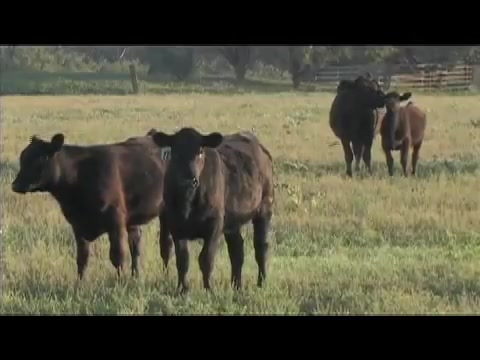cow: (13, 129, 172, 282), (150, 130, 276, 295), (329, 72, 389, 182), (376, 90, 428, 180)
